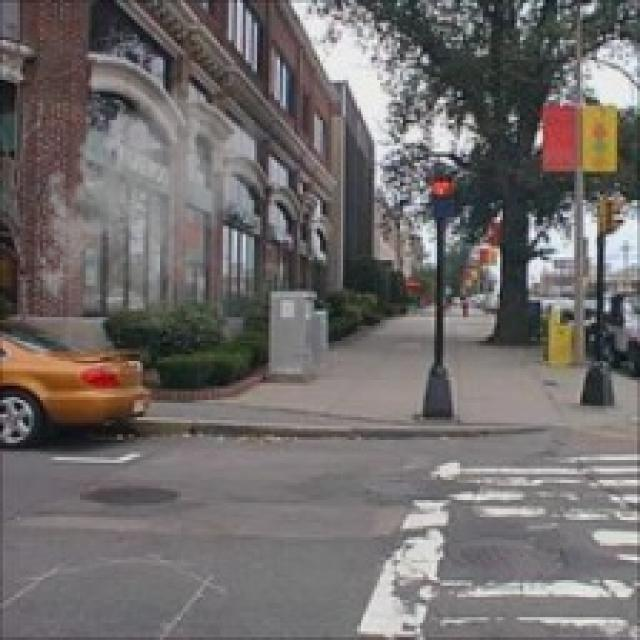smoke: (32, 74, 268, 329)
